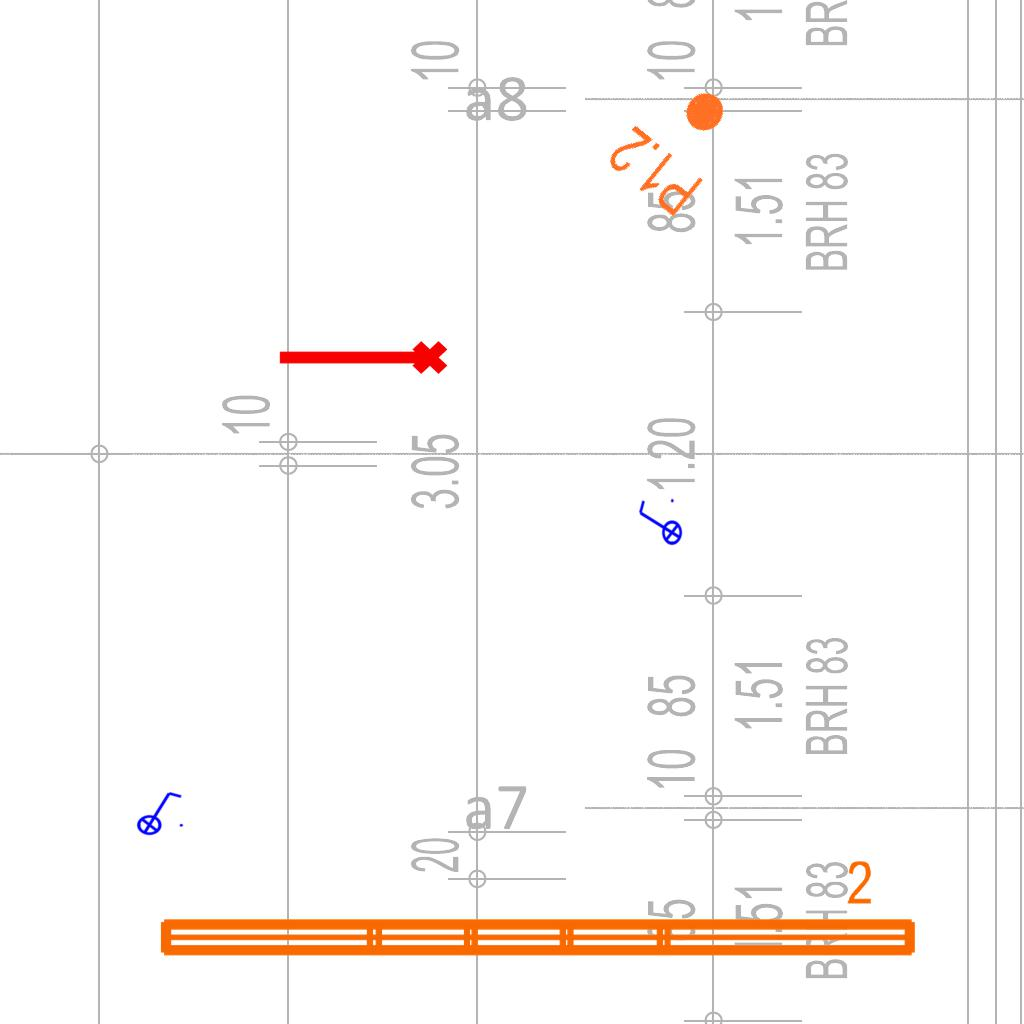ASR_Ansaugoeffnung: (274, 337, 450, 383)
Ambulanz_Pendelleuchte_LED: (150, 856, 924, 968)
Ausschalter_beleuchtet: (635, 496, 683, 552), (130, 788, 186, 836)
Downlight_LED_Einbauleuchten_Flur: (601, 63, 754, 223)
